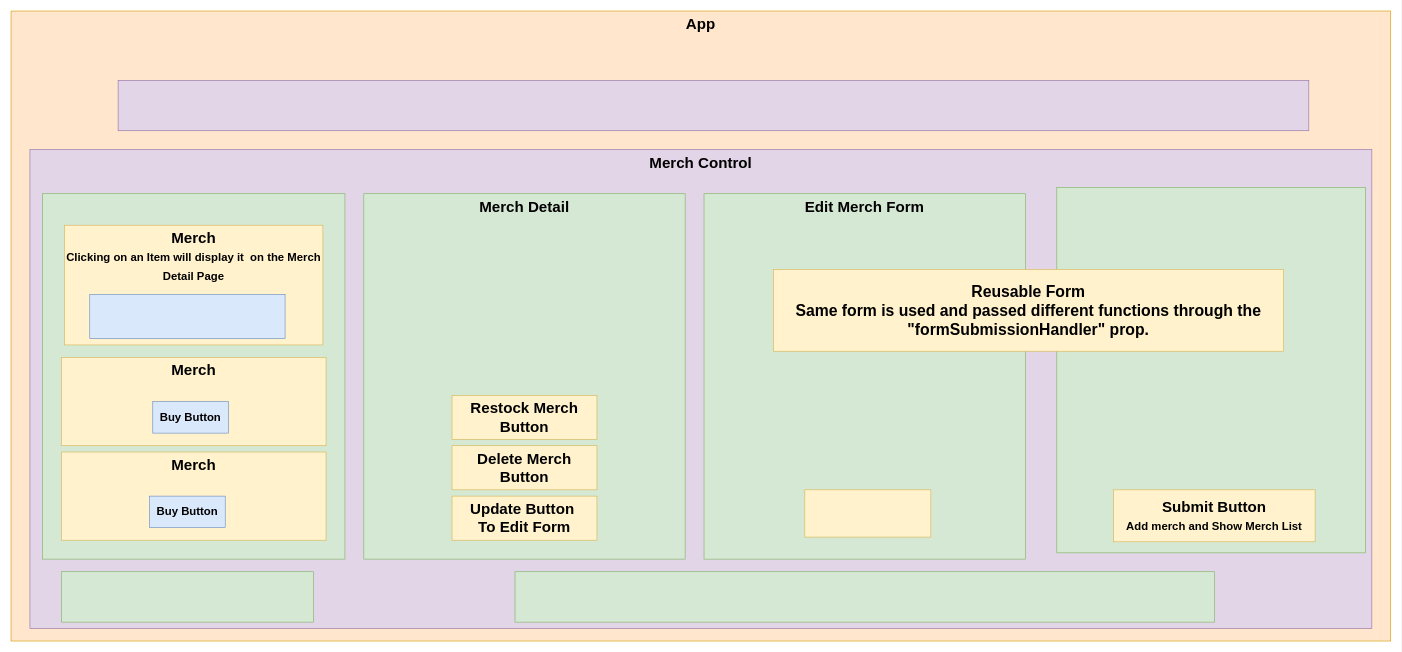
This 1402x652 diagram has some shape labels left out. The shapes that lost their labels are listed below. From the top down, each one's box as (x1, y1, x2, y2) in pixels, then its label:
(117, 80, 1309, 131): Header
(89, 294, 285, 339): Buy Button Decreases quantity
(42, 193, 345, 559): Merch List
(1056, 187, 1366, 553): New Merch Form
(804, 489, 931, 537): Confirm Update Button
(61, 571, 313, 622): Add Merch Button Show new contact form
(514, 571, 1214, 622): Merch List Button shows Merch List
